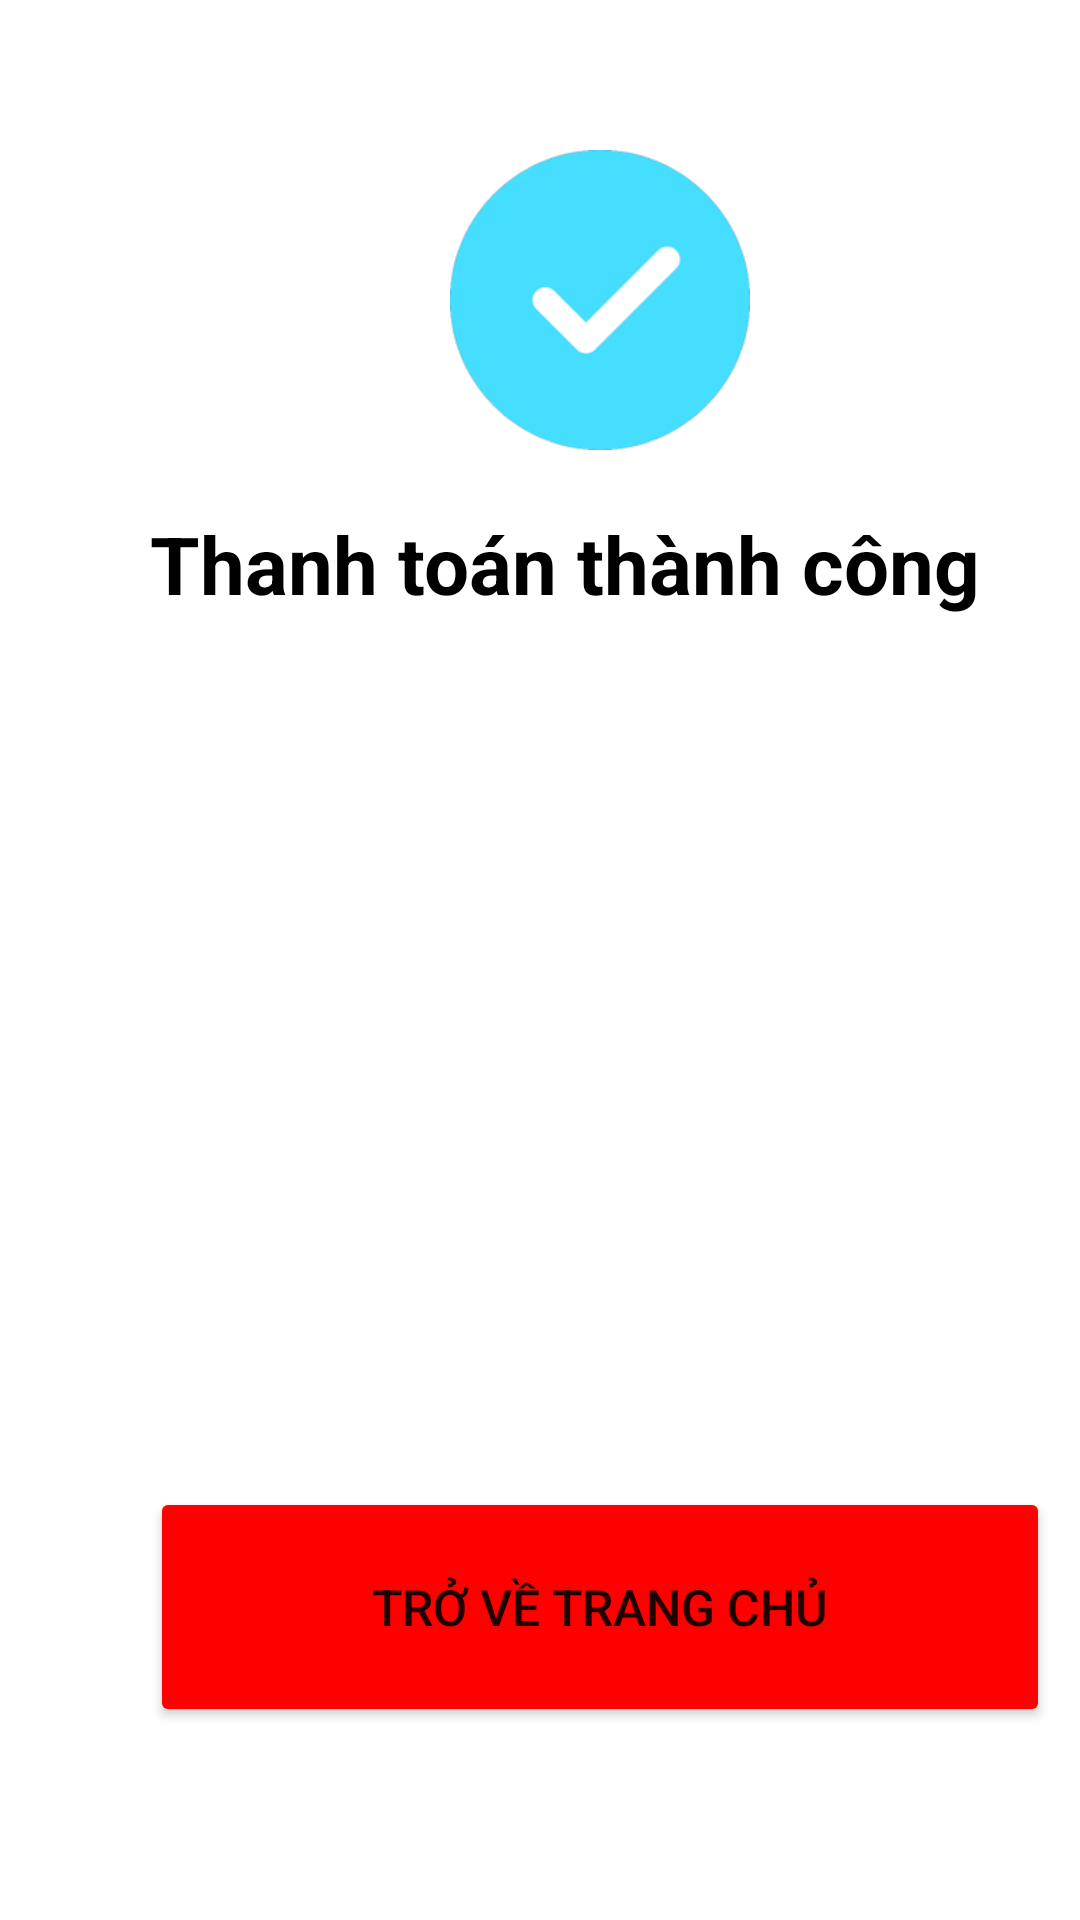

Named icons in this screenshot (1080px×1920px) and their bounding boxes, region(x1, y1, x2, y2):
tich: region(450, 150, 750, 450)
